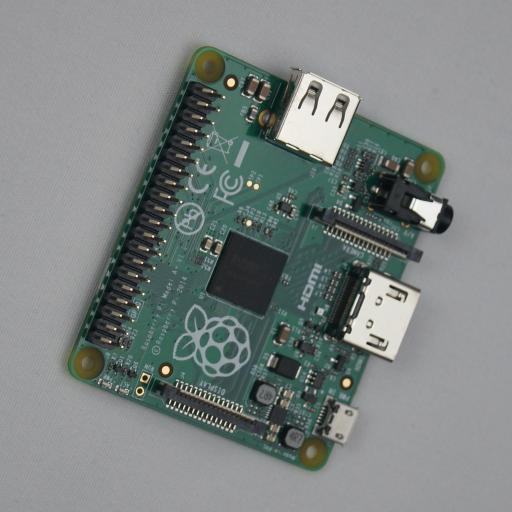Raspberry Pi A-: (65, 46, 453, 471)
